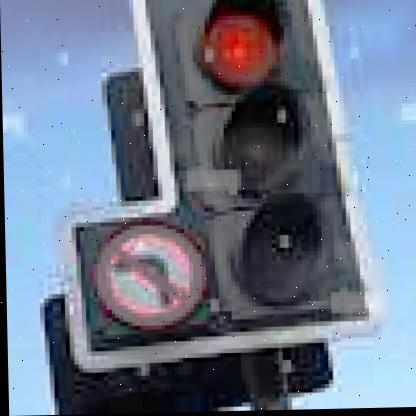No left turn: (95, 220, 211, 331)
